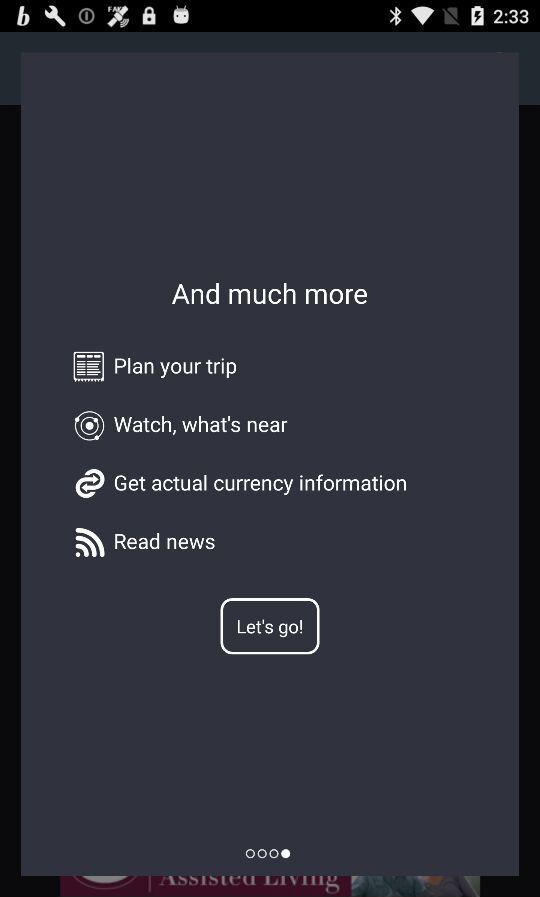Icon: (72, 351, 106, 384)
Image: (75, 411, 106, 443), (76, 527, 107, 559), (75, 469, 106, 500)
PageIndicator: (245, 848, 292, 859)
Text: (115, 473, 407, 496), (172, 283, 368, 306), (114, 415, 289, 436), (115, 357, 238, 380), (115, 532, 216, 551)
TextButton: (220, 598, 321, 655)
UpperTaskBar: (1, 1, 540, 33)
